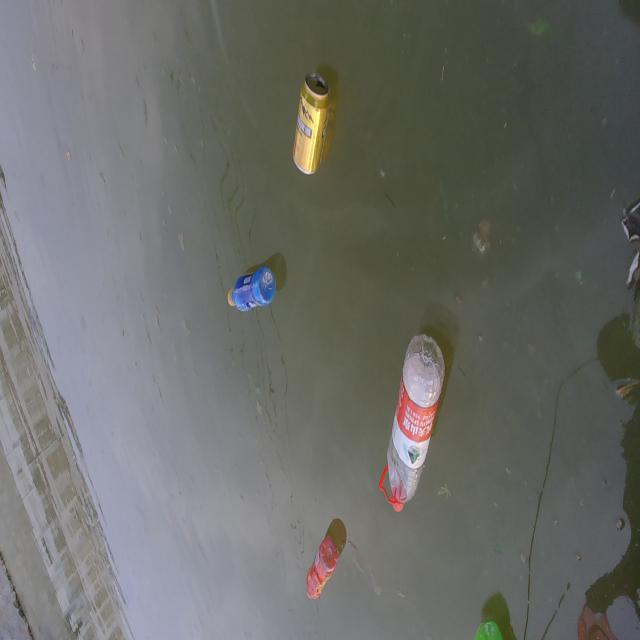garbage: (386, 332, 446, 507), (292, 71, 330, 176), (306, 517, 347, 600), (227, 265, 275, 312)
